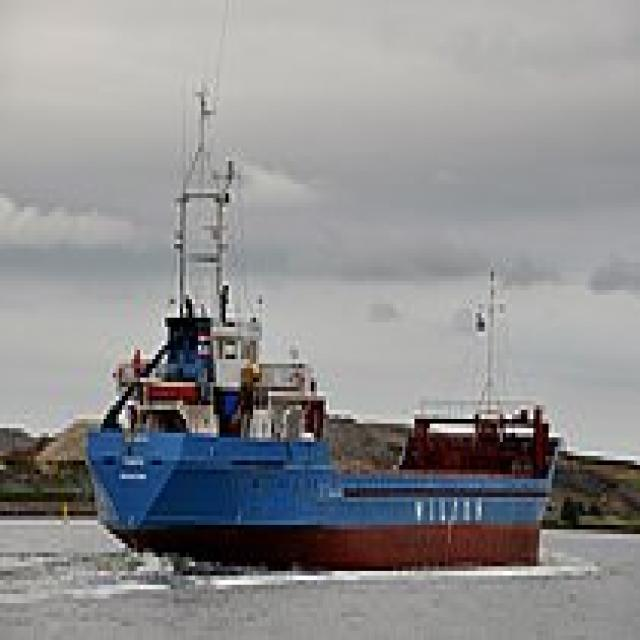Cargo: (76, 69, 561, 566)
